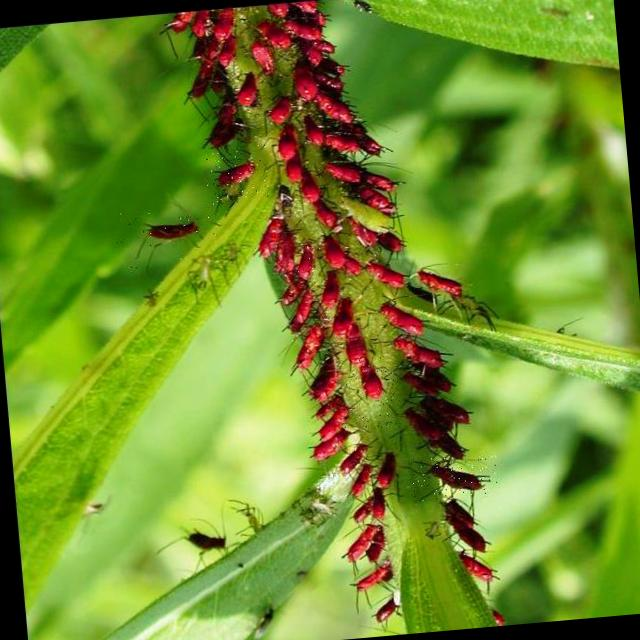aphid: (106, 194, 227, 271), (338, 352, 397, 431), (408, 452, 498, 501), (202, 142, 268, 205), (389, 331, 450, 374), (278, 240, 324, 294), (378, 298, 429, 340), (414, 264, 466, 304), (315, 92, 363, 134), (362, 258, 410, 293), (346, 214, 384, 258), (309, 407, 351, 446), (292, 328, 326, 376), (334, 442, 372, 482), (358, 182, 398, 218), (322, 158, 365, 188), (213, 31, 240, 77), (232, 68, 261, 110), (298, 164, 324, 210), (291, 62, 319, 103), (249, 37, 276, 77), (266, 91, 293, 127), (303, 113, 328, 149), (368, 482, 389, 522)
